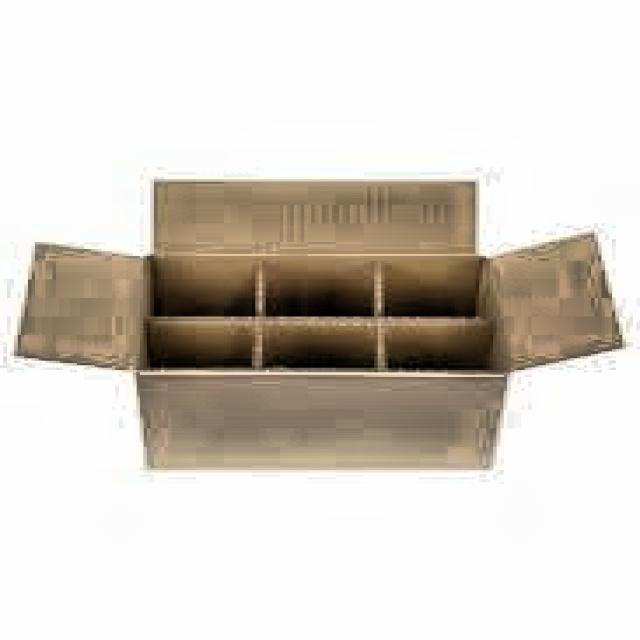cardboard: (11, 177, 626, 470)
